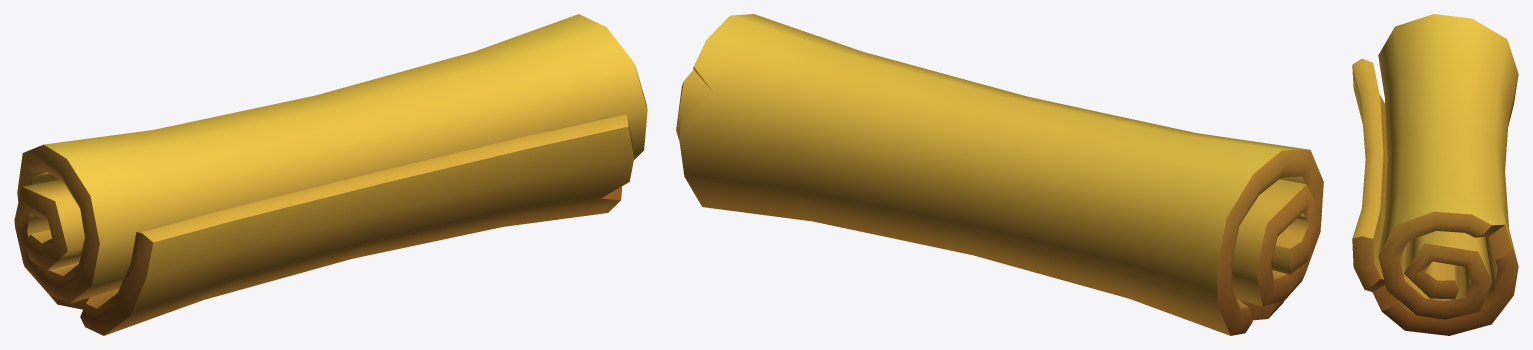
File: Basic_Scroll_03.glb
3 renders of one model, left to right at view 1: azimuth 30°, elevation 25°; view 2: azimuth 150°, elevation 25°; view 3: azimuth 270°, elevation 25°, orthographic. The views are drawn at different scales.
Parts seen in each view (by area): view 1: Basic_Scroll_03; view 2: Basic_Scroll_03; view 3: Basic_Scroll_03.
Boxes of the visible parts, left/top/right/bottom form: Basic_Scroll_03: left=14, top=14, right=647, bottom=335; Basic_Scroll_03: left=676, top=14, right=1323, bottom=335; Basic_Scroll_03: left=1352, top=14, right=1518, bottom=335.
Bounding box in the file's own units: 0.8443 × 0.2339 × 0.2724.
1 material, 1 textured.
